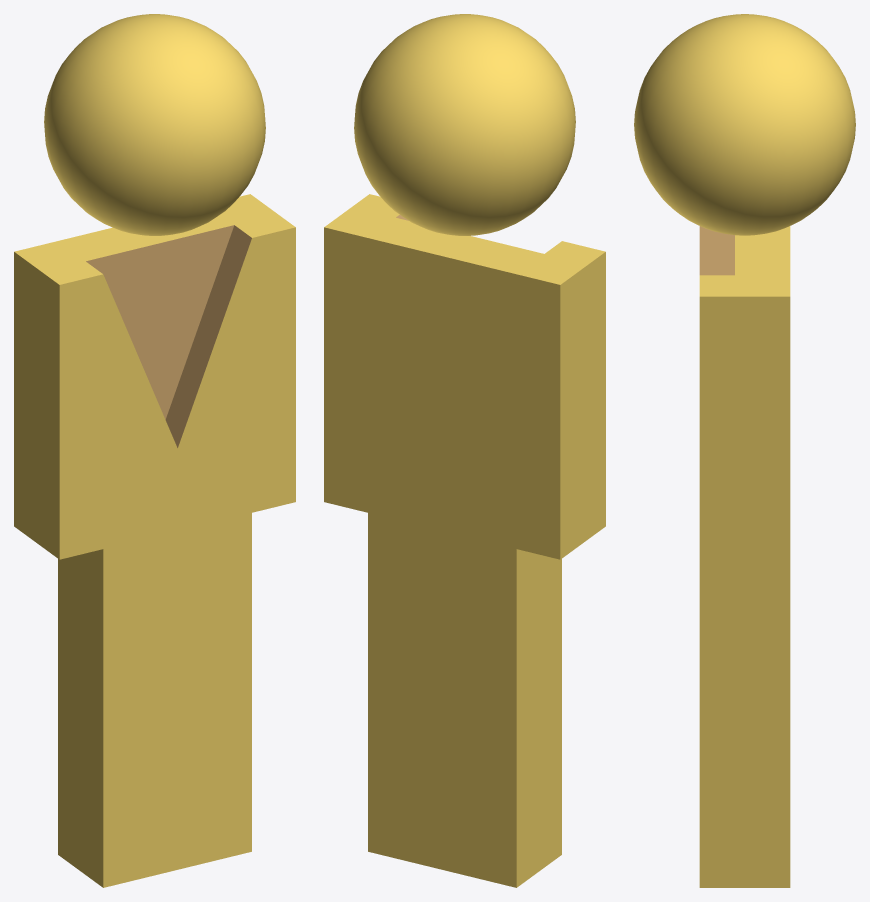
File: pegman_location_pin_static.glb
The picture shows the model from 3 angles, left to right: view 1: azimuth 30°, elevation 25°; view 2: azimuth 150°, elevation 25°; view 3: azimuth 270°, elevation 25°; orthographic projection.
Visible parts, largest first — view 1: Pegman_Location_Pin; view 2: Pegman_Location_Pin; view 3: Pegman_Location_Pin.
Part boxes in pixels (<box>): Pegman_Location_Pin: <box>14,14,295,887</box>; Pegman_Location_Pin: <box>324,14,605,887</box>; Pegman_Location_Pin: <box>634,14,855,887</box>.
Bounding box in the file's own units: 0.54 × 1.81 × 0.44.
